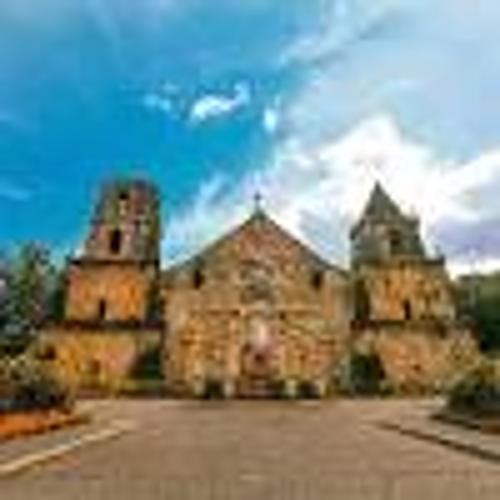Miagao Church: (55, 165, 475, 404)
